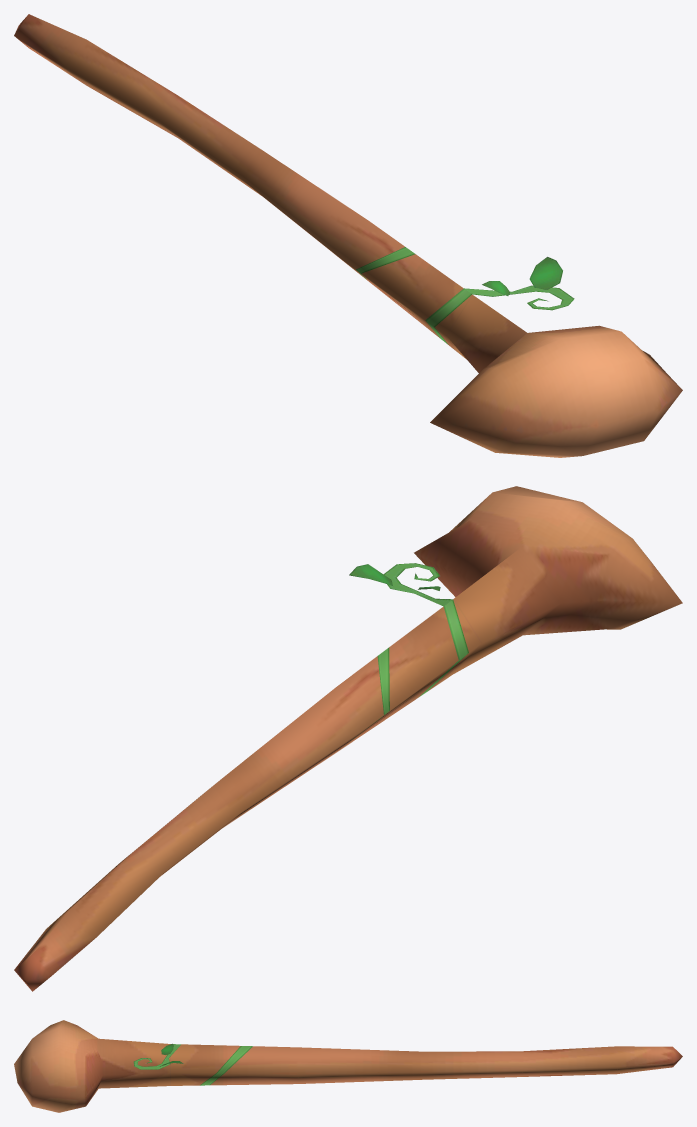
File: rod0014.fbx
3 views of the same model, one above another, from view 1: azimuth 30°, elevation 25°; view 2: azimuth 150°, elevation 25°; view 3: azimuth 270°, elevation 25° (orthographic). The views are drawn at different scales.
Visible parts, largest first — view 1: rod0014_m; view 2: rod0014_m; view 3: rod0014_m.
Boxes of the visible parts, left/top/right/bottom form: rod0014_m: left=14, top=14, right=682, bottom=457; rod0014_m: left=14, top=486, right=682, bottom=991; rod0014_m: left=14, top=1020, right=682, bottom=1112.
Size of the model in its own units: 0.2195 by 0.1065 by 0.899.
